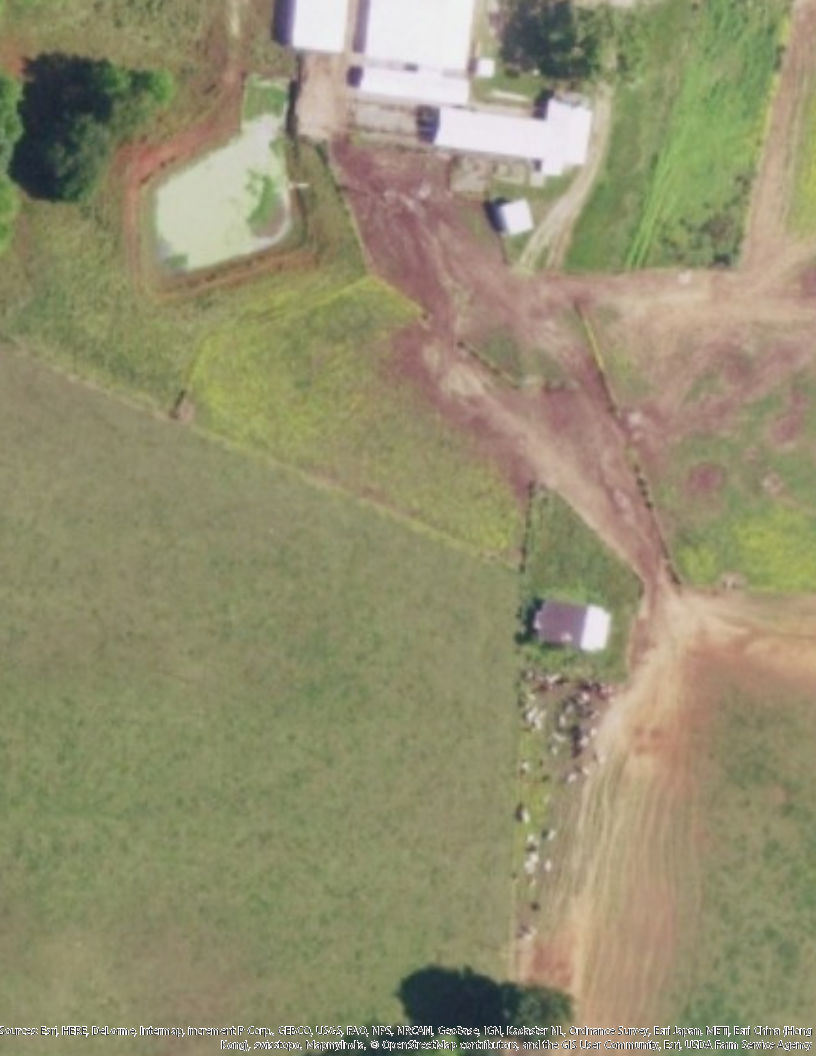cafo: (281, 1, 596, 188)
